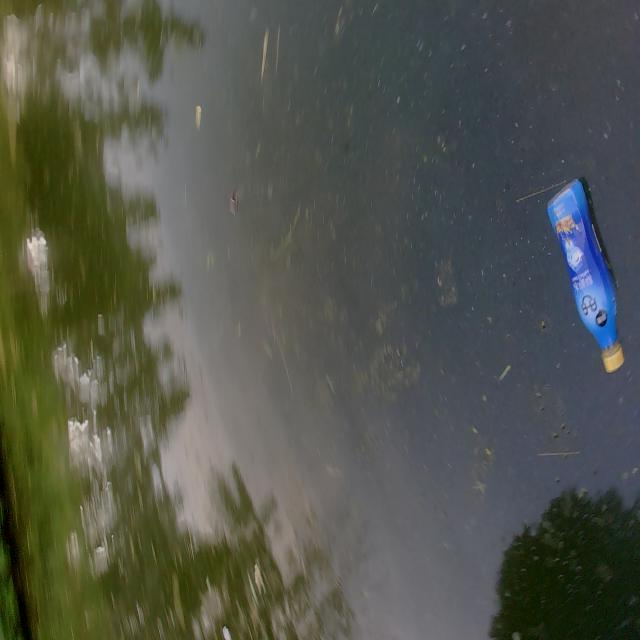bottle: (537, 166, 629, 392)
